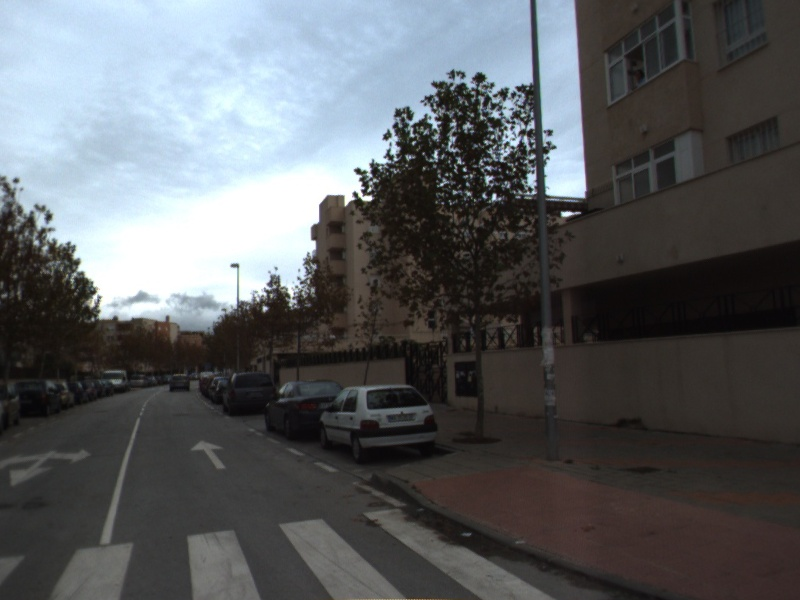STRAIGHT: (188, 438, 228, 471)
